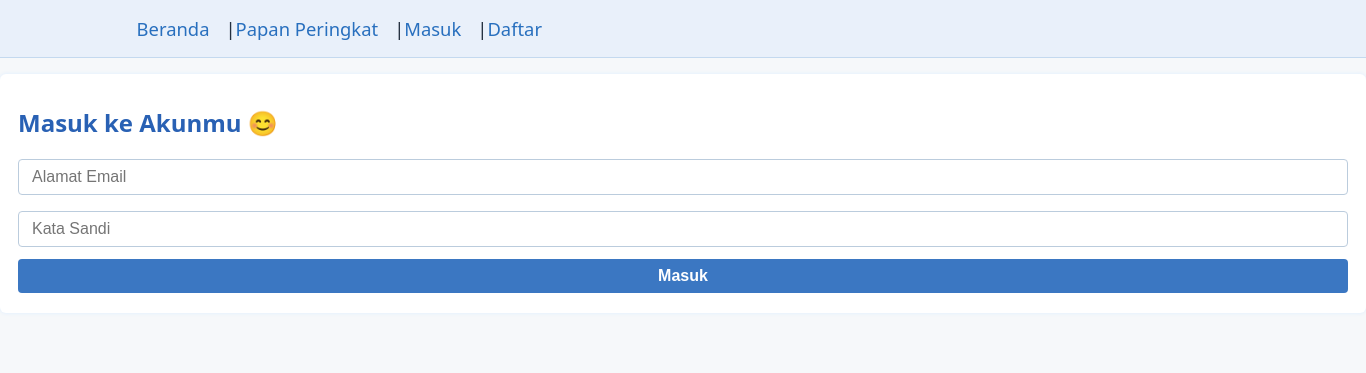
Test: Login Flow › should show error on invalid login
Type "fahrozi@gmail.com" into the field with placeholder "Alamat Email" at (683, 177), box [18,159,1348,195]
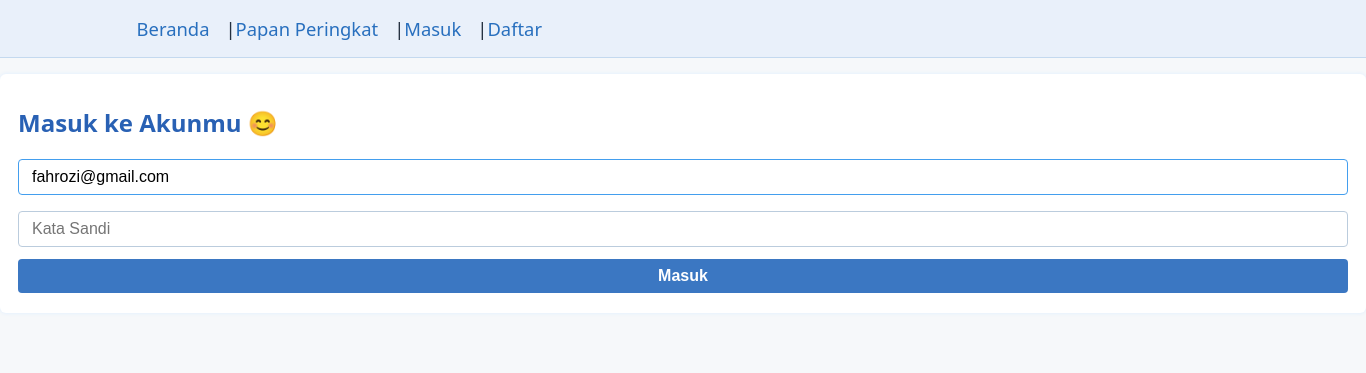
Type "wrongpassword" into the password field with placeholder "Kata Sandi" at (683, 229), box [18,211,1348,247]
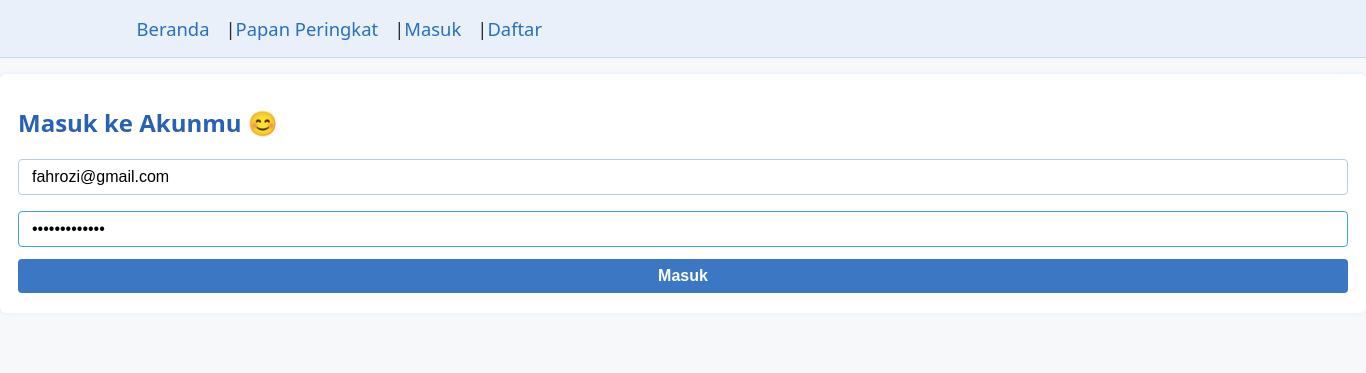
Click the submit button at (683, 276), box [18,259,1348,293]
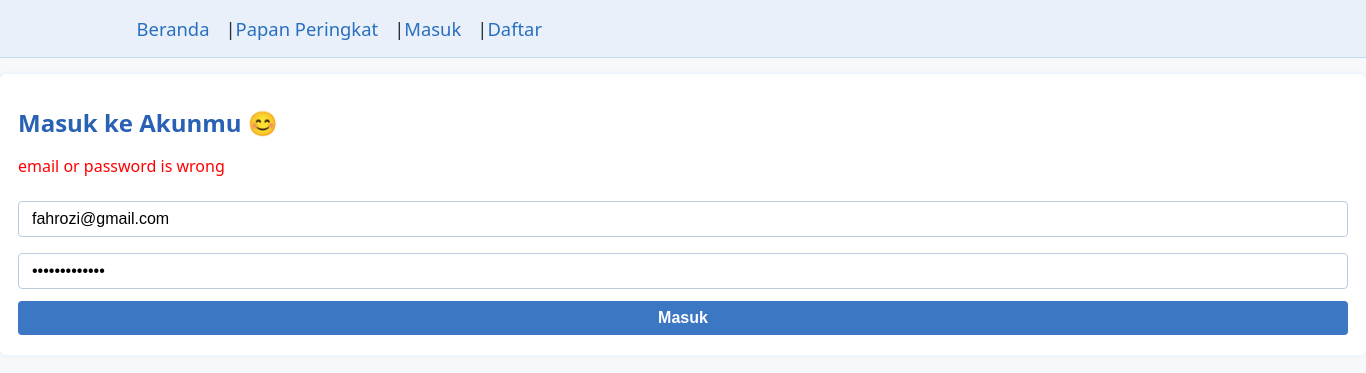
Expected: the text "email or password is wrong" is shown, [18,155,225,177]
